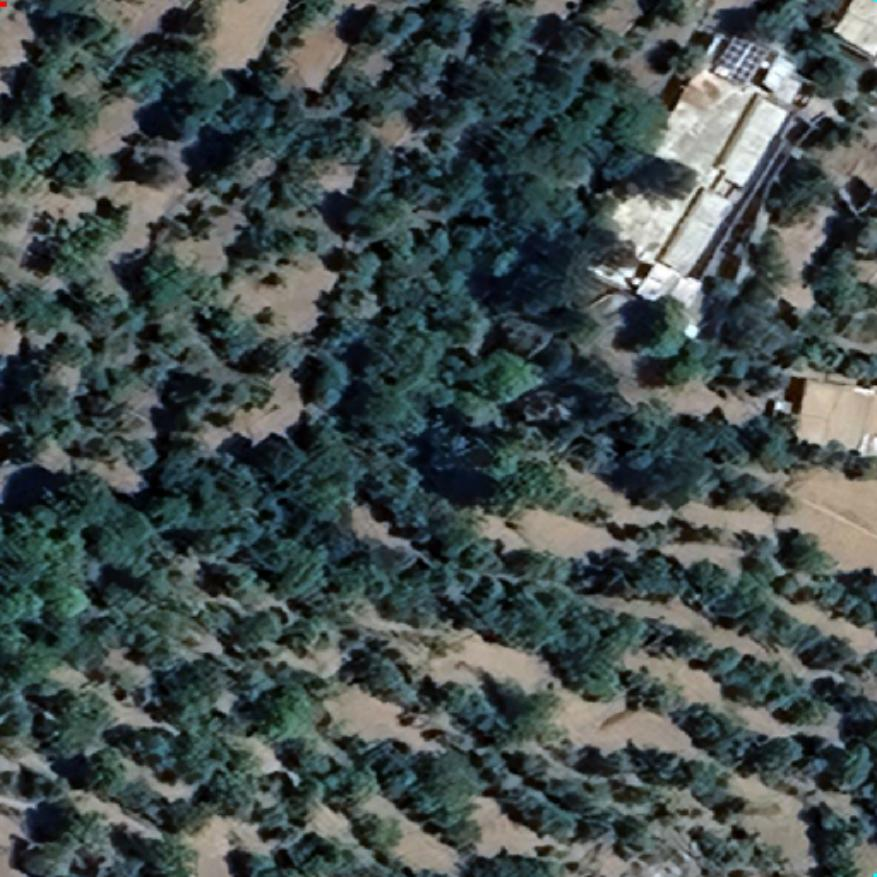Solarpanel: (716, 35, 766, 85)
